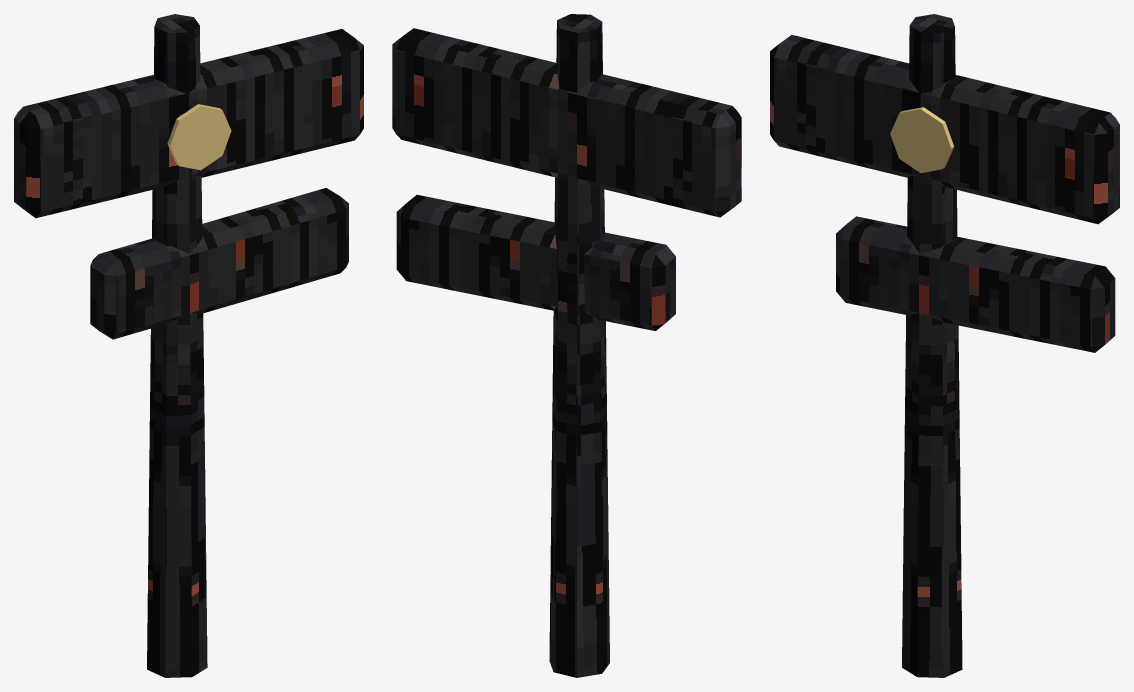
The model's file is enfeite_placa.glb.
The picture shows the model from 3 angles, left to right: view 1: azimuth 30°, elevation 25°; view 2: azimuth 150°, elevation 25°; view 3: azimuth 330°, elevation 25°; orthographic projection.
Parts seen in each view (by area): view 1: vulcao_enfeite_placa; view 2: vulcao_enfeite_placa; view 3: vulcao_enfeite_placa.
Boxes of the visible parts, box(x1,y1,x2,y2) form: vulcao_enfeite_placa: box(14, 14, 363, 677); vulcao_enfeite_placa: box(392, 14, 741, 677); vulcao_enfeite_placa: box(770, 14, 1119, 677).
Size of the model in its own units: 0.55 by 1 by 0.099.
Materials: 3 (2 with a texture image).
